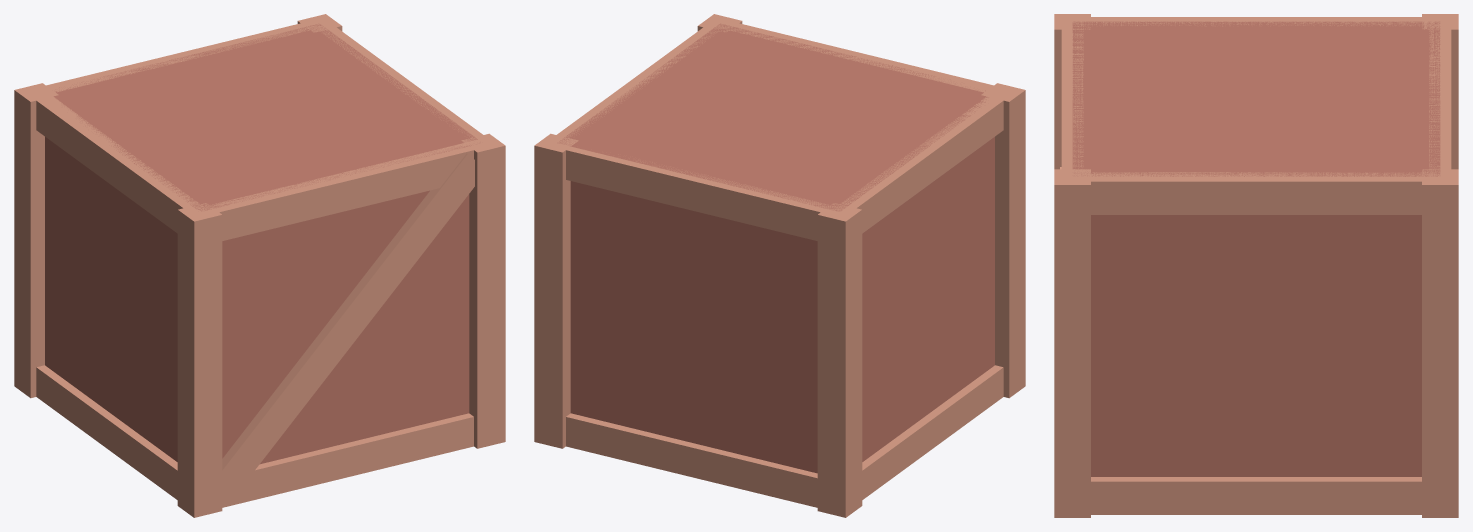
Rendered from Crate.fbx.
The picture shows the model from 3 angles, left to right: view 1: azimuth 30°, elevation 25°; view 2: azimuth 150°, elevation 25°; view 3: azimuth 270°, elevation 25°; orthographic projection. The views are drawn at different scales.
Parts seen in each view (by area): view 1: Wood.011, WoodLight.008; view 2: Wood.011, WoodLight.008; view 3: Wood.011, WoodLight.008.
Part boxes in pixels (left/top/right/bottom): Wood.011: left=45, top=23, right=480, bottom=464; WoodLight.008: left=14, top=14, right=505, bottom=517; Wood.011: left=557, top=23, right=994, bottom=473; WoodLight.008: left=534, top=14, right=1025, bottom=517; Wood.011: left=1072, top=21, right=1440, bottom=476; WoodLight.008: left=1054, top=14, right=1458, bottom=517.
Bounding box in the file's own units: 2.2 × 2 × 2.2.
